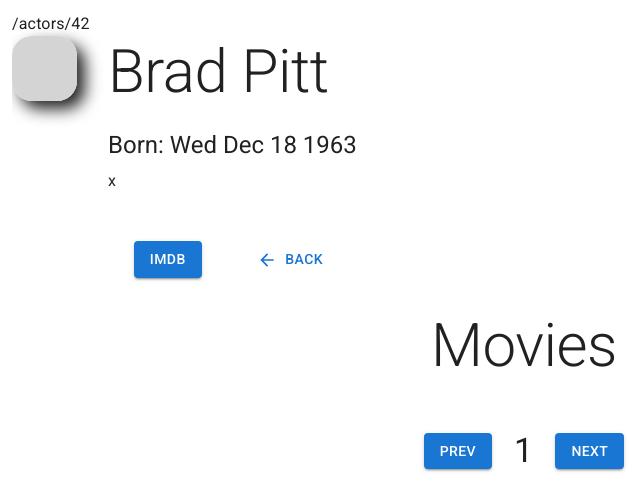
Test: Actors › navigates back when Back is clicked
Expected: the text with test id "location" reads "/actors/42", x1=12 y1=14 x2=90 y2=33
// userEvent v14+ dispatches events asynchronously, so the click must be awaited.
Click the button "Back" at (292, 260), box x1=253 y1=241 x2=331 y2=278
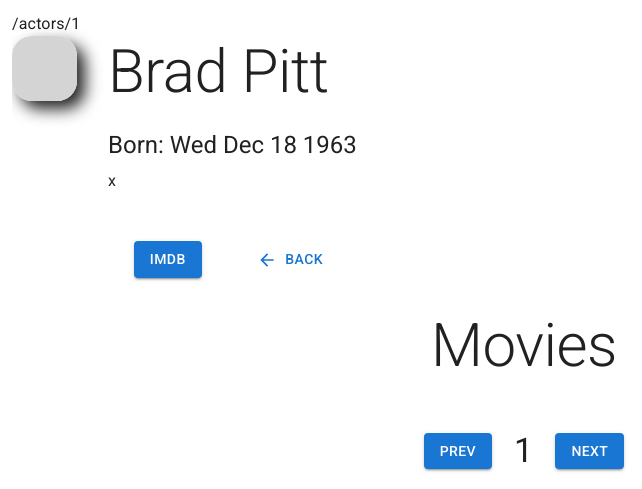
Expected: the text with test id "location" reads "/actors/1", x1=12 y1=14 x2=80 y2=33
